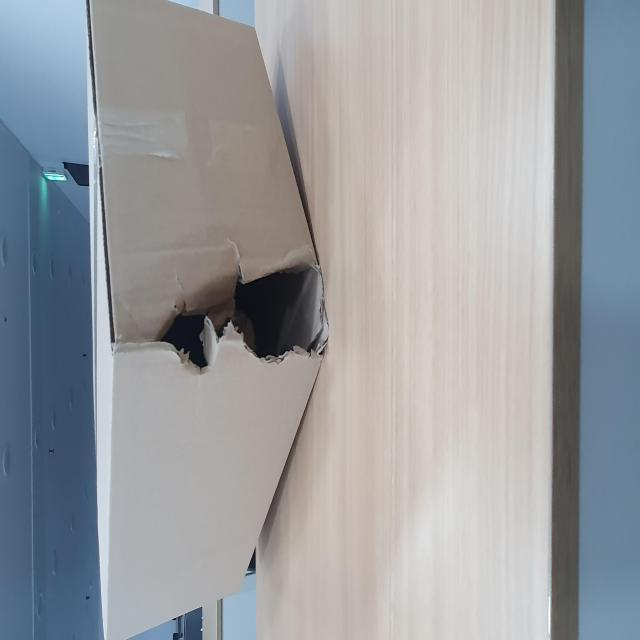damaged: (142, 274, 220, 586)
